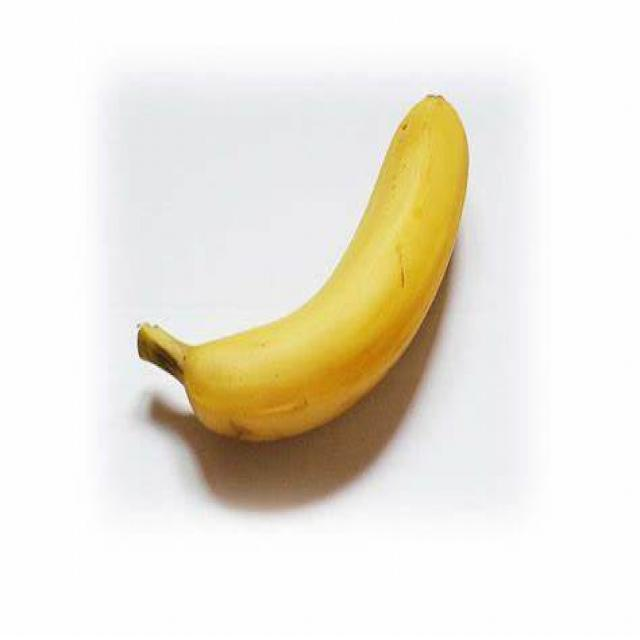Banana: (133, 96, 475, 444)
